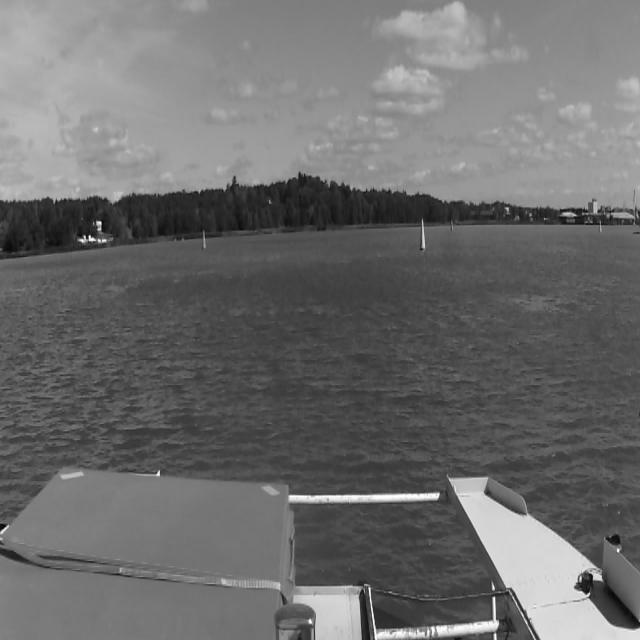buoy: (420, 218, 426, 250), (202, 229, 206, 250), (598, 219, 602, 233), (451, 220, 454, 231)
